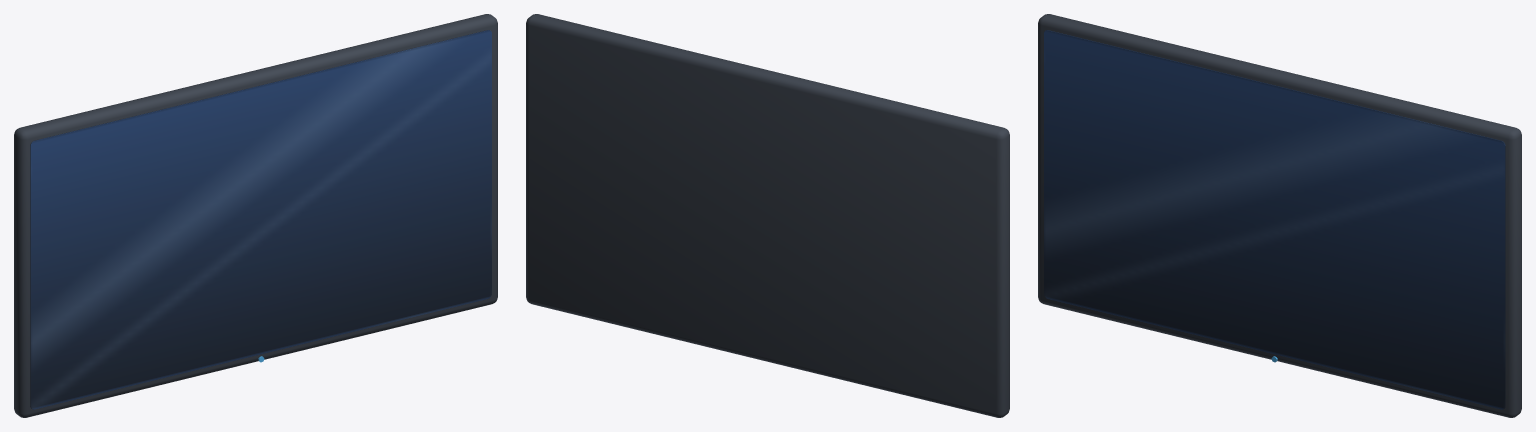
Rendered from tv_parede.glb.
The picture shows the model from 3 angles, left to right: view 1: azimuth 30°, elevation 25°; view 2: azimuth 150°, elevation 25°; view 3: azimuth 330°, elevation 25°; orthographic projection.
Visible parts, largest first — view 1: tv_parede; view 2: tv_parede; view 3: tv_parede.
Boxes of the visible parts, x1,y1,x2,y2 form: tv_parede: (14, 14, 497, 417); tv_parede: (526, 14, 1009, 417); tv_parede: (1038, 14, 1521, 417).
Bounding box in the file's own units: 1.1 × 0.63 × 0.043.
2 materials, 2 textured.
